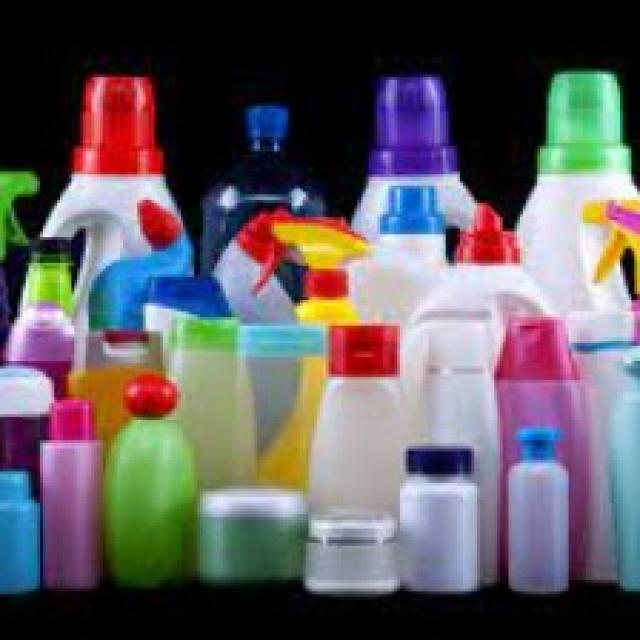heap: (6, 62, 636, 640)
plastic: (508, 62, 640, 188), (245, 210, 374, 325), (493, 315, 586, 441), (370, 74, 458, 188), (374, 185, 451, 301)
plastic_bottle: (105, 376, 203, 589), (321, 320, 406, 520), (499, 420, 588, 608), (33, 394, 111, 588)
